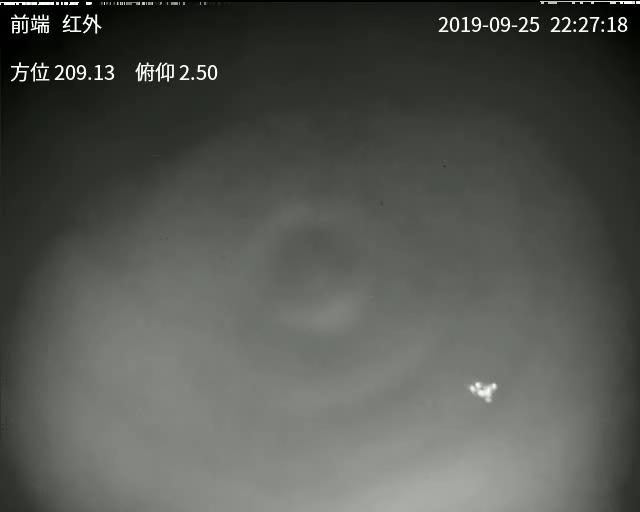uav: (466, 376, 497, 407)
